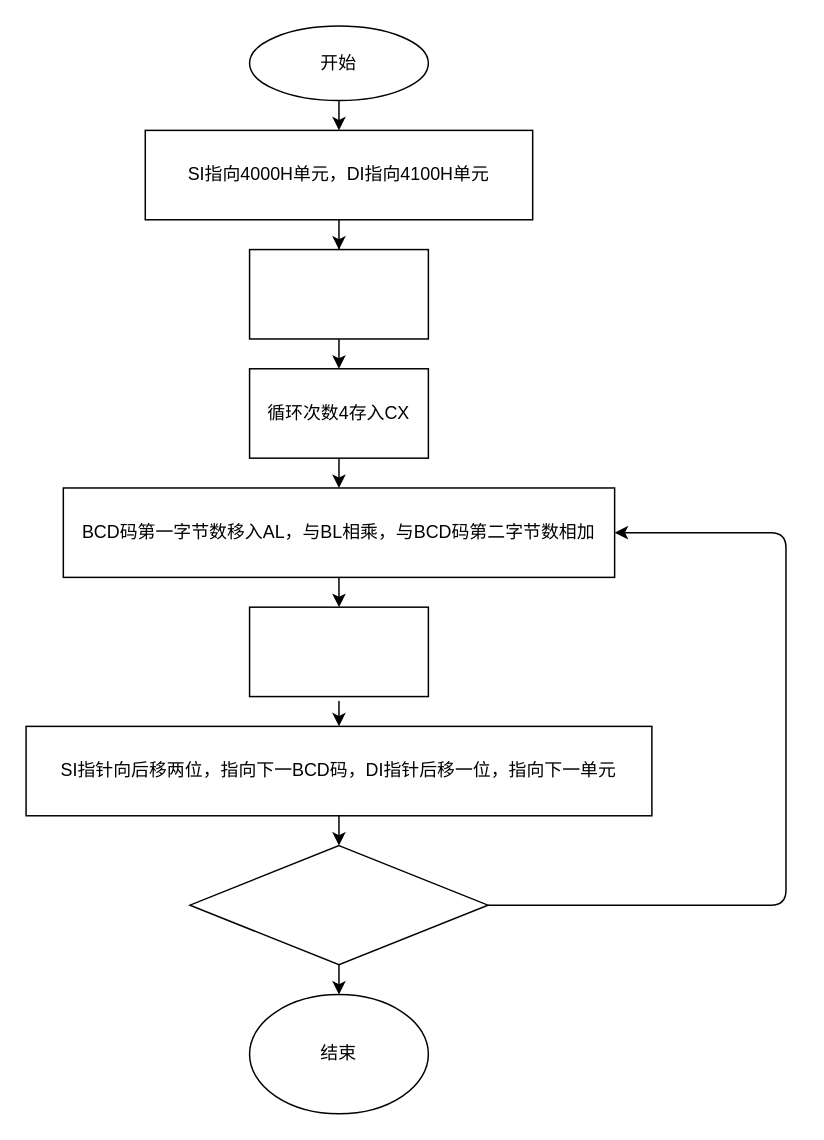
Image size: 824x1140. Some labels were removed from this diagram. Here are the shapes that lost their labels. From the top down, the box of each, then its label:
(248, 248, 428, 339): 将乘数10存到BL中
(248, 606, 428, 697): 结果移入DI中
(188, 844, 488, 965): CX=0？
